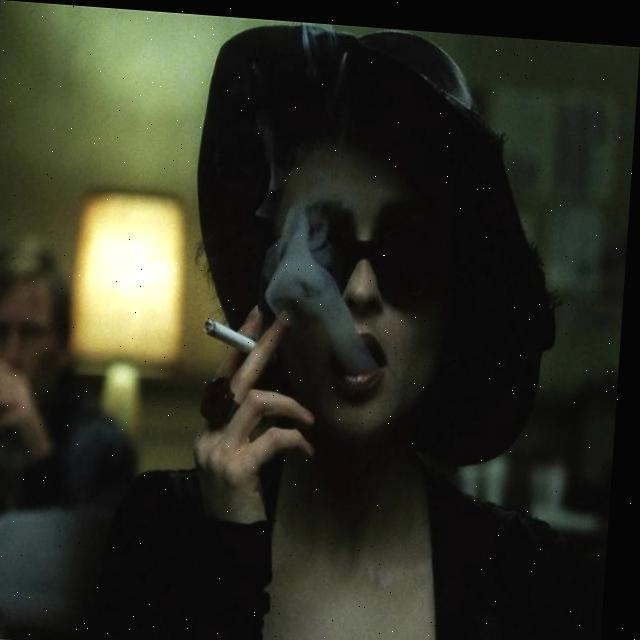cigarette: (206, 311, 267, 354)
